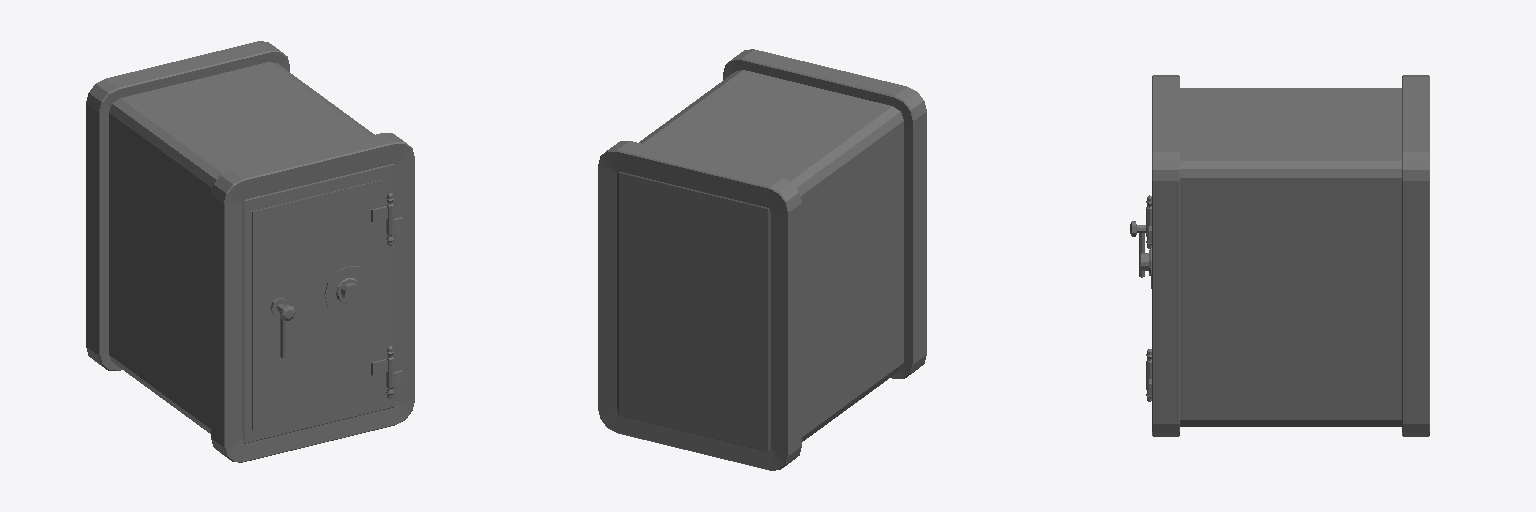
File: Safe.obj
3 renders of one model, left to right at view 1: azimuth 30°, elevation 25°; view 2: azimuth 150°, elevation 25°; view 3: azimuth 270°, elevation 25°, orthographic.
Parts seen in each view (by area): view 1: LP_TRIS, Carcass, Door, Lock_Base1, Hinge_Base; view 2: LP_TRIS, Carcass; view 3: LP_TRIS, Carcass, Hinge_Base.
Part boxes in pixels (x1,y1,x2,y2): LP_TRIS: (109,62,395,443); Carcass: (86,41,414,462); Door: (252,180,380,429); Lock_Base1: (324,266,370,313); Hinge_Base: (386,193,403,398); LP_TRIS: (617,70,903,451); Carcass: (598,49,926,470); LP_TRIS: (1180,88,1401,426); Carcass: (1152,75,1429,436); Hinge_Base: (1146,195,1151,401).
Size of the model in its own units: 1.82 by 2.58 by 2.47.